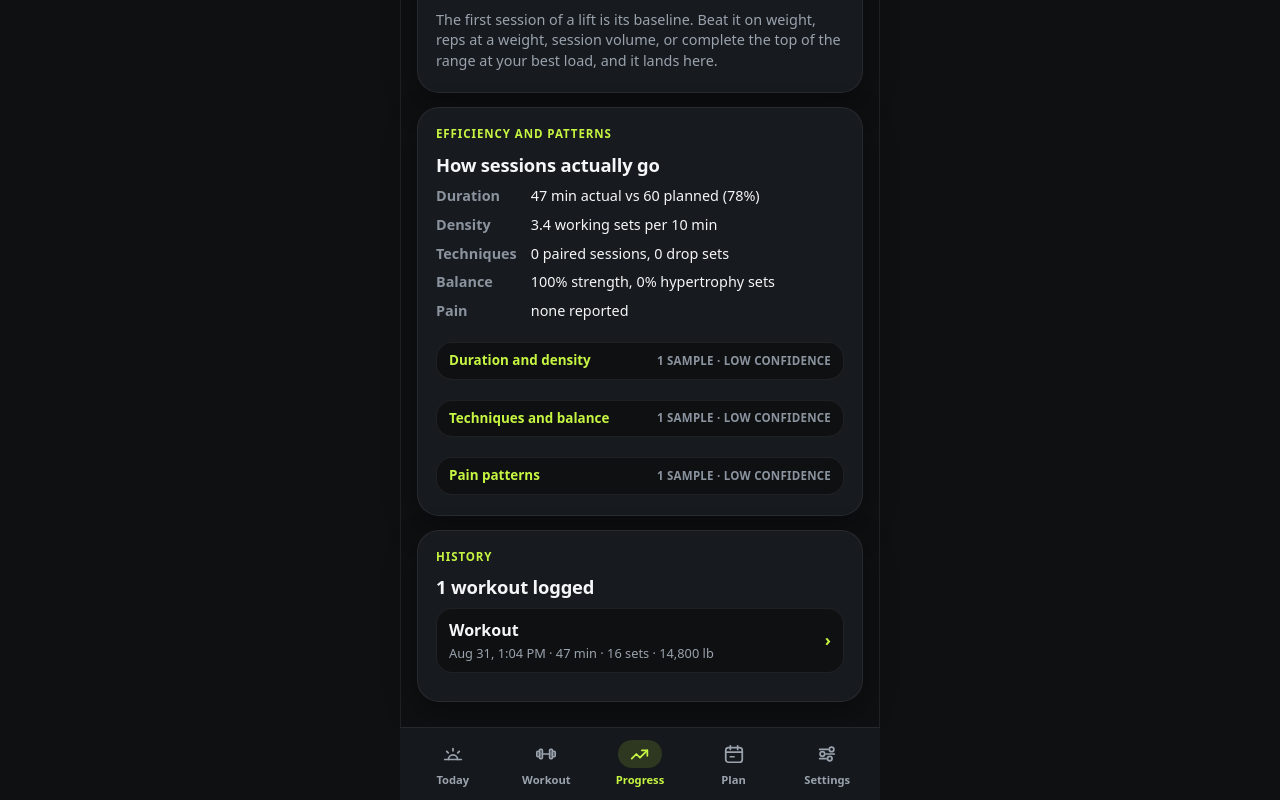
Test: training time (Maintenance 28, item 3) › shows History by the minutes trained, not the hours the workout stayed open
(page scrolled)
Note: Its detail says the same.
Click the button with test id "history-row": (640, 641) [436,608,844,673]
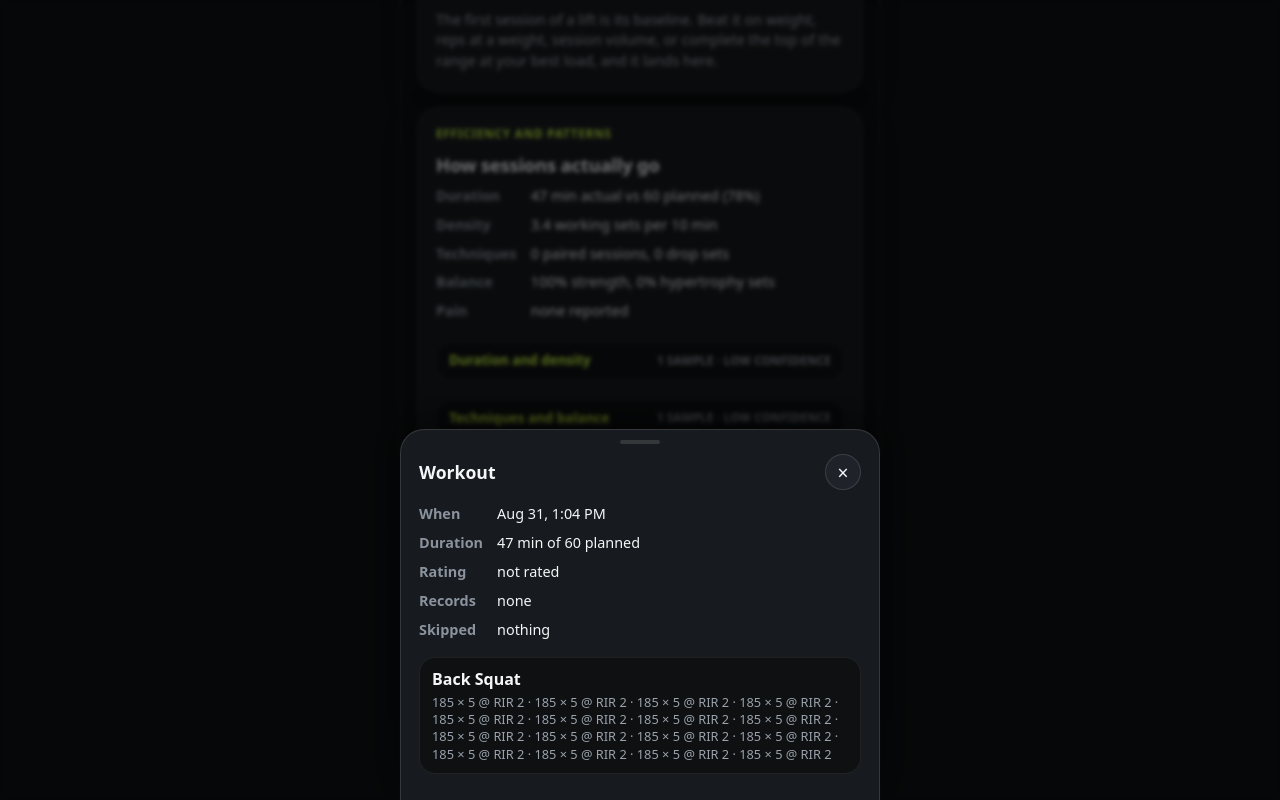
Result: the dialog shows "47 min of 60 planned" at [497,533,640,552]
